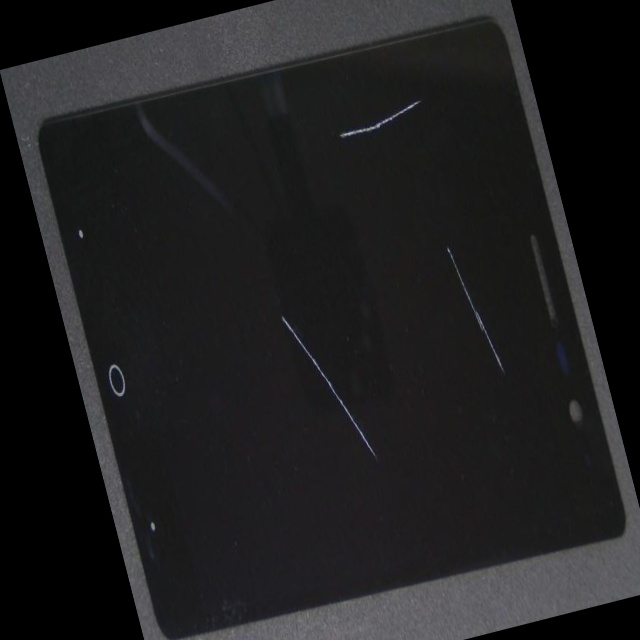scratch: (299, 252, 638, 571), (150, 121, 409, 467), (239, 13, 545, 204)
